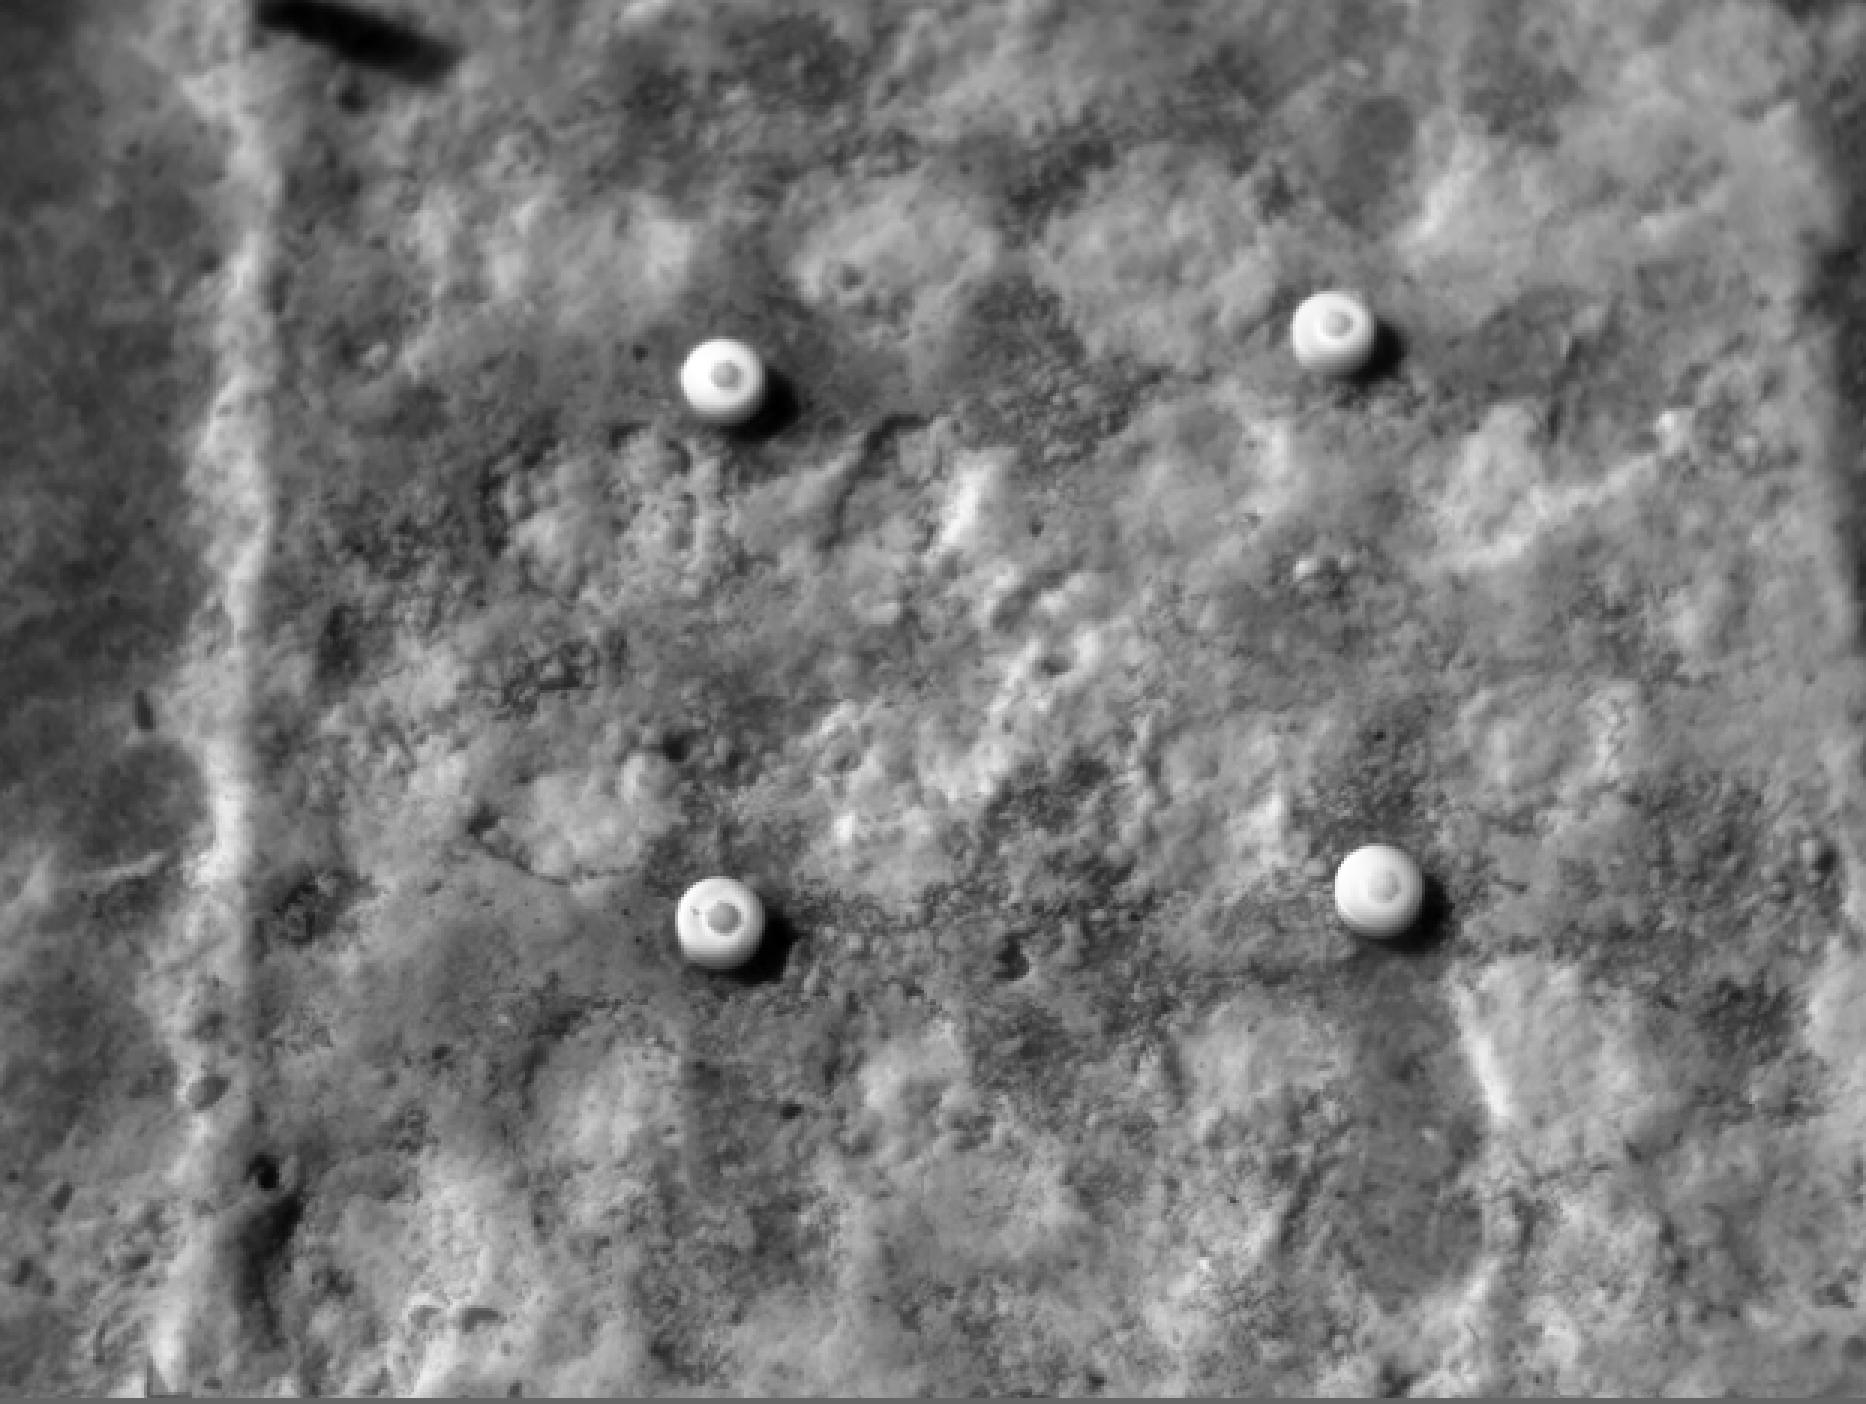mines-gjV8: (1332, 835, 1435, 944), (673, 875, 771, 978), (676, 332, 769, 429), (1288, 288, 1381, 376)
